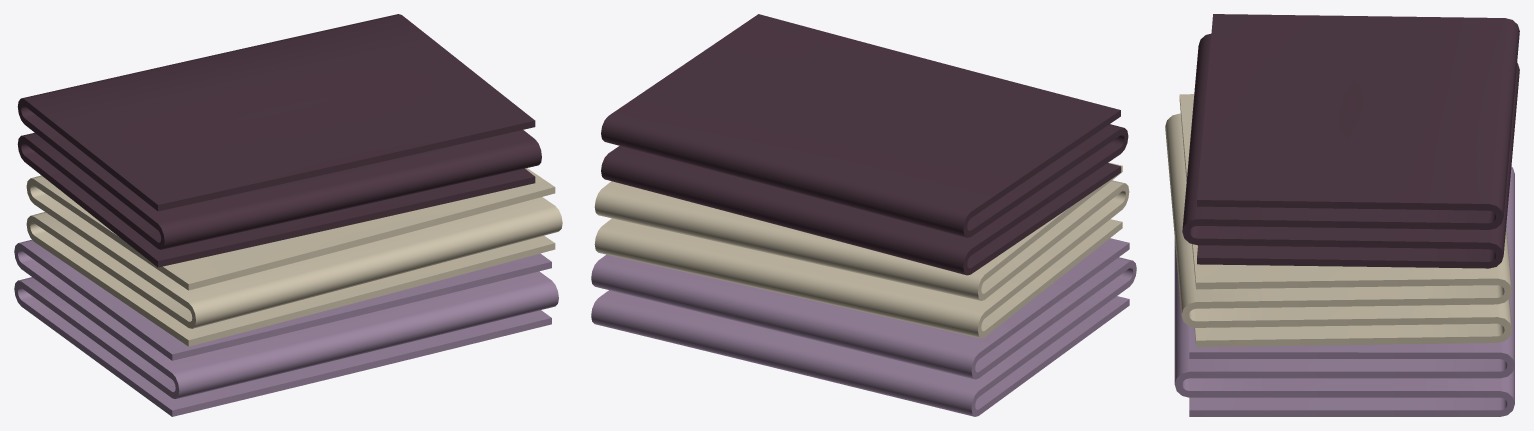
File: towel-stack-7fc80872d661.glb
The picture shows the model from 3 angles, left to right: view 1: azimuth 30°, elevation 25°; view 2: azimuth 150°, elevation 25°; view 3: azimuth 270°, elevation 25°; orthographic projection. The views are drawn at different scales.
Parts seen in each view (by area): view 1: cloth-plum, cloth-cream, cloth-lilac; view 2: cloth-plum, cloth-lilac, cloth-cream; view 3: cloth-plum, cloth-cream, cloth-lilac.
Part boxes in pixels (left/top/right/bottom): cloth-plum: left=17, top=14, right=541, bottom=267; cloth-cream: left=26, top=168, right=562, bottom=346; cloth-lilac: left=14, top=239, right=558, bottom=416; cloth-plum: left=601, top=14, right=1128, bottom=275; cloth-lilac: left=591, top=238, right=1136, bottom=416; cloth-cream: left=594, top=162, right=1129, bottom=338; cloth-plum: left=1182, top=14, right=1519, bottom=268; cloth-cream: left=1165, top=94, right=1512, bottom=347; cloth-lilac: left=1174, top=166, right=1514, bottom=416.
Bounding box in the file's own units: 0.314 × 0.16 × 0.24.
